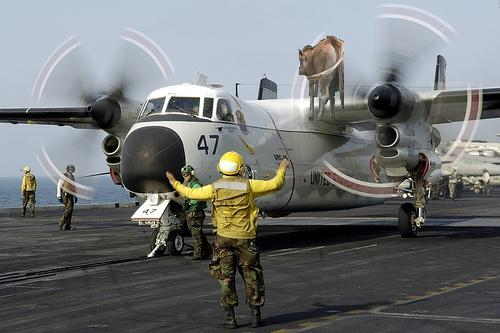tampered: (299, 37, 344, 121)
